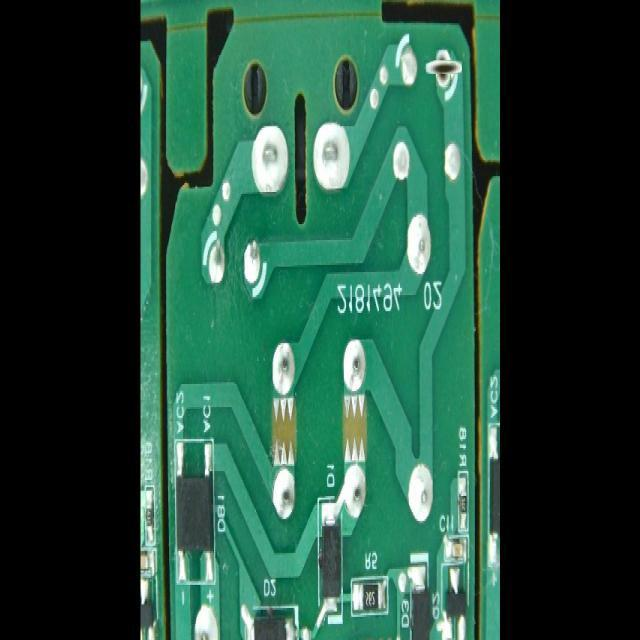damged: (430, 54, 457, 80)
